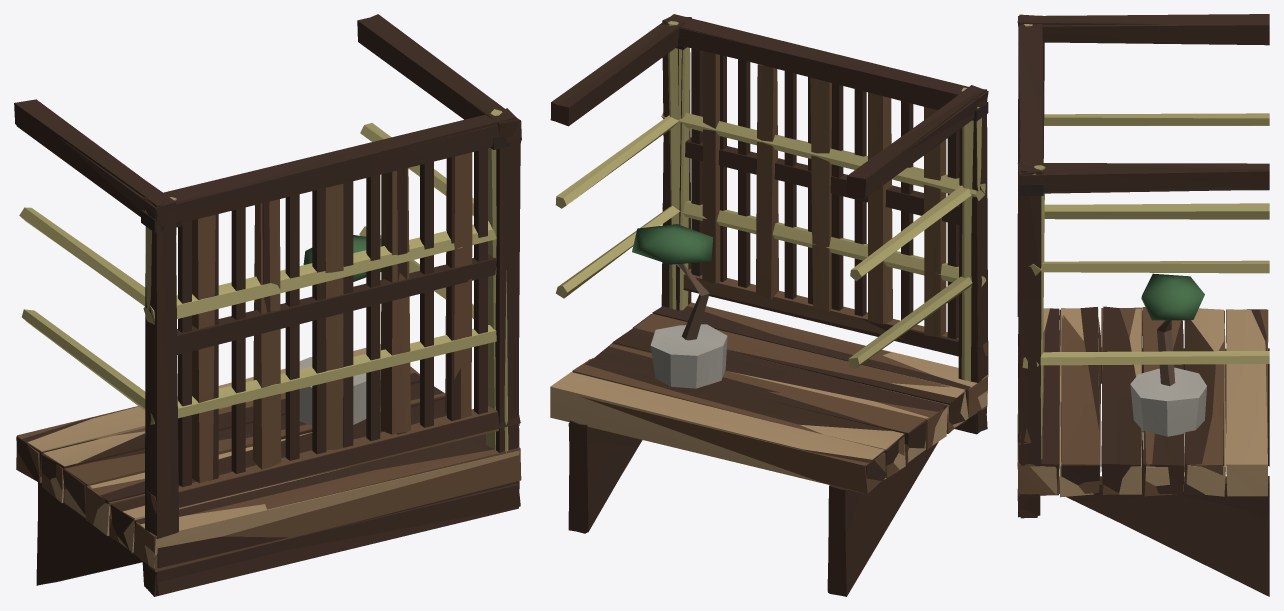
Rendered from balcony.glb.
3 renders of one model, left to right at view 1: azimuth 30°, elevation 25°; view 2: azimuth 150°, elevation 25°; view 3: azimuth 270°, elevation 25°, orthographic. The views are drawn at different scales.
Visible parts, largest first — view 1: balcony.v0.mesh, balcony.v1.mesh, balcony.v2.mesh; view 2: balcony.v0.mesh, balcony.v1.mesh, balcony.v2.mesh; view 3: balcony.v0.mesh, balcony.v1.mesh, balcony.v2.mesh.
Boxes of the visible parts, <box> form: balcony.v0.mesh: <box>14,14,521,595</box>; balcony.v1.mesh: <box>16,17,521,596</box>; balcony.v2.mesh: <box>19,109,520,595</box>; balcony.v0.mesh: <box>550,14,987,596</box>; balcony.v1.mesh: <box>557,17,988,591</box>; balcony.v2.mesh: <box>550,21,988,595</box>; balcony.v0.mesh: <box>1017,14,1269,517</box>; balcony.v1.mesh: <box>1017,14,1269,596</box>; balcony.v2.mesh: <box>1017,24,1269,521</box>.
Size of the model in its own units: 0.93 by 1.19 by 0.6249.
